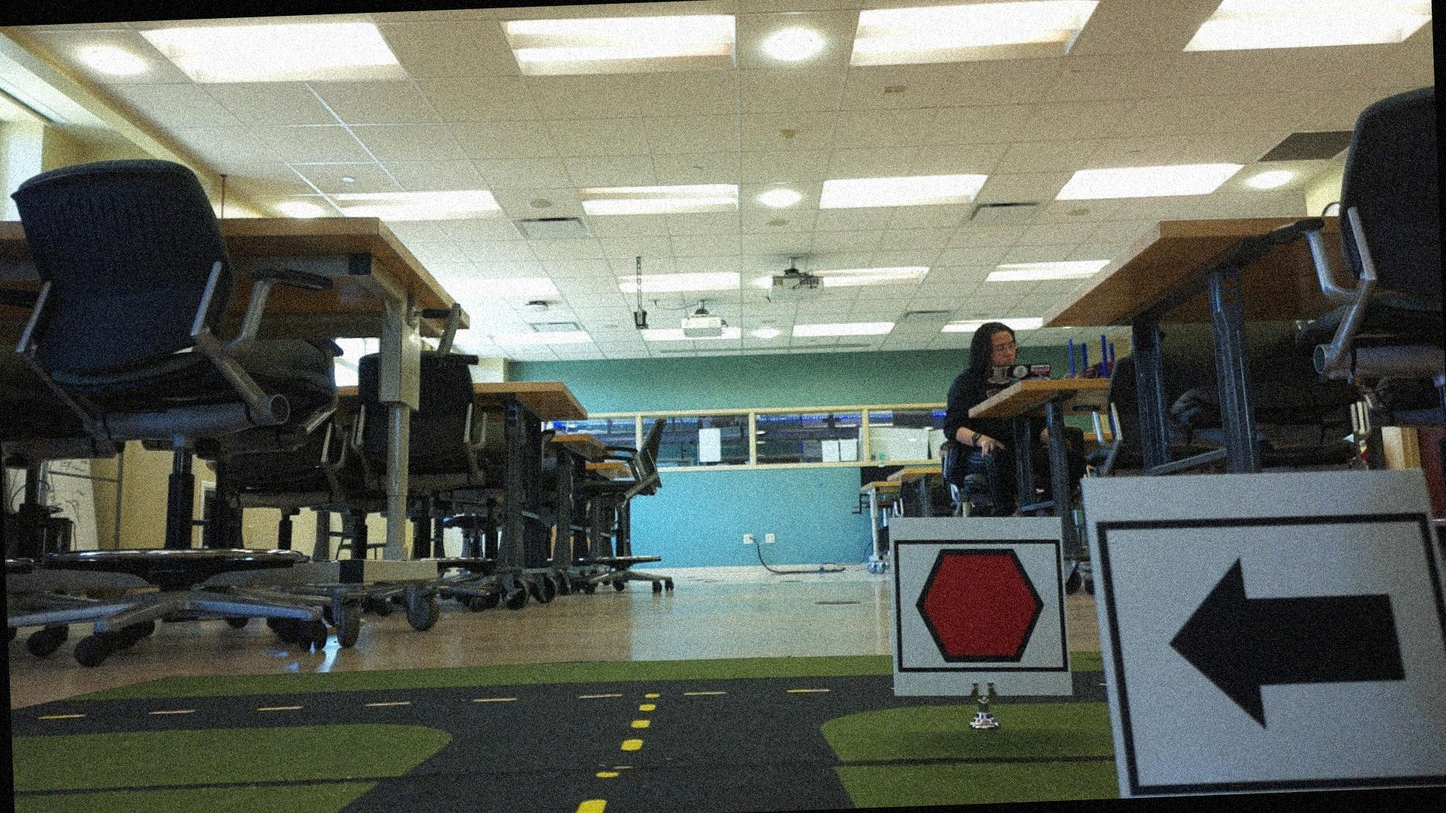stop: (892, 541, 1064, 671)
turnright: (1111, 516, 1442, 793)
yellowline: (574, 701, 657, 812)
